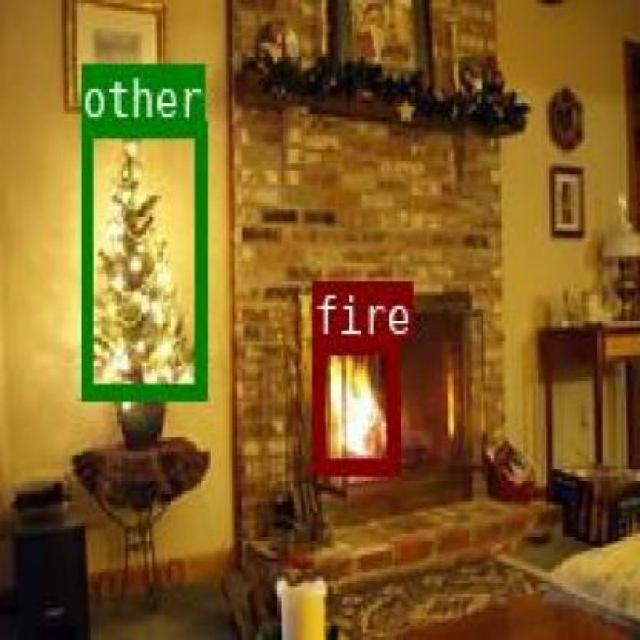Fire: (311, 336, 397, 470)
